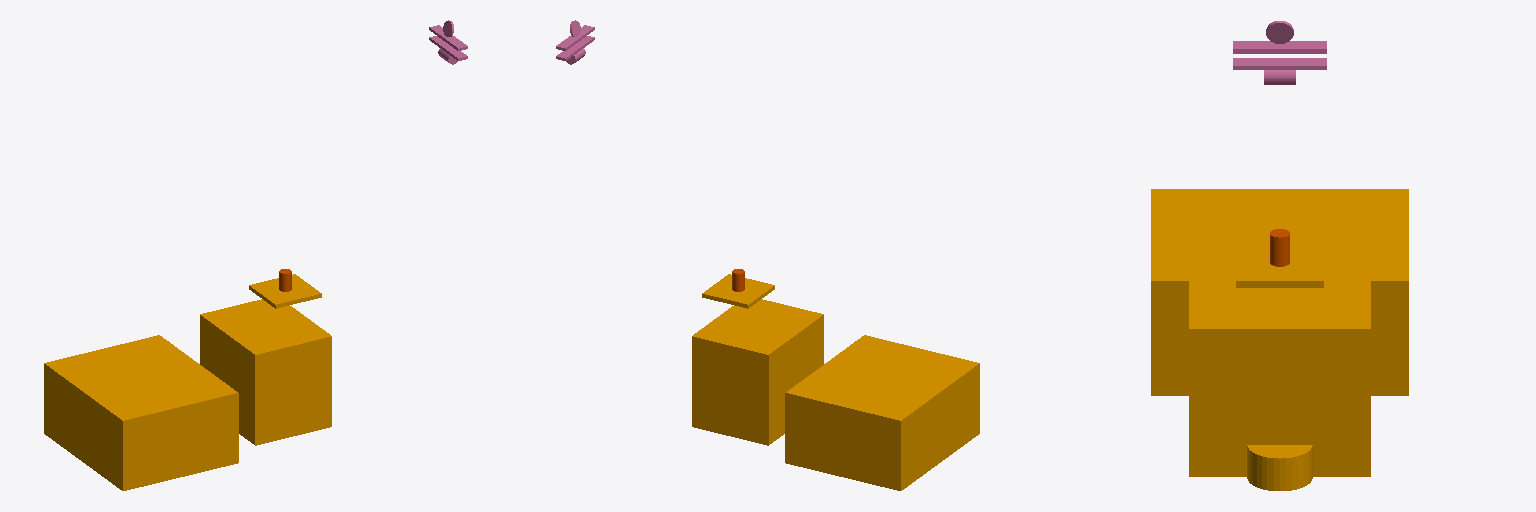
The robot description file, URDF, robot "marble_husky_sensor_config_3":
<?xml version='1.0' encoding='utf-8'?>
<robot name='marble_husky_sensor_config_3'>
  <link name='base_link'>
    <inertial>
      <origin xyz='-0.000543 -0.084945 0.062329' rpy='0 -0 0'/>
      <mass value='46.064'/>
      <inertia ixx='0.615397' ixy='-0.0240585' ixz='-0.120749' iyy='1.75388' iyz='-0.0028322' izz='2.03641'/>
    </inertial>
    <collision name='base_link_collision'>
      <origin xyz='0 0 0.12' rpy='0 -0 0'/>
      <geometry>
        <box size='0.9874 0.5709 0.05'/>
      </geometry>
    </collision>
    <collision name='base_link_collision_bottom'>
      <origin xyz='0 0 0.046' rpy='0 -0 0'/>
      <geometry>
        <box size='0.8 0.5709 0.095'/>
      </geometry>
    </collision>
    <collision name='base_link_collision_1'>
      <origin xyz='0 0 0.185625' rpy='0 -0 0'/>
      <geometry>
        <box size='0.78992 0.5709 0.12375'/>
      </geometry>
    </collision>
    <collision name='base_link_fixed_joint_lump__camera/camera_link_collision_1'>
      <origin xyz='0 0 0.05' rpy='0 -0 0'/>
      <geometry>
        <box size='0.0078 0.13 0.0192'/>
      </geometry>
    </collision>
    <collision name='base_link_fixed_joint_lump__camera/camera_link_collision_2'>
      <origin xyz='0.478 0 0.285' rpy='0 -0 0'/>
      <geometry>
        <box size='0.0078 0.13 0.0192'/>
      </geometry>
    </collision>
    <collision name='base_link_fixed_joint_lump__camera/camera_link_collision_3'>
      <origin xyz='0.473 0 0.26' rpy='0 0.5236 0'/>
      <geometry>
        <box size='0.0078 0.13 0.0192'/>
      </geometry>
    </collision>
    <collision name='base_link_fixed_joint_lump__velodyne_base_link_collision_6'>
      <origin xyz='0.424 0 0.327' rpy='0 -0 0'/>
      <geometry>
        <cylinder radius='0.0516' length='0.0717'/>
      </geometry>
    </collision>
    <collision name='base_link_fixed_joint_lump__velodyne_gimbal_plate_base_link_collision_7'>
      <origin xyz='0.424 0 0.4' rpy='0 -0 0'/>
      <geometry>
        <box size='0.1 0.1 0.01'/>
      </geometry>
    </collision>
    <collision name='base_link_fixed_joint_lump__sensor_tower_8'>
      <origin xyz='0.374 0 0.215' rpy='0 -0 0'/>
      <geometry>
        <box size='0.2 0.25 0.225'/>
      </geometry>
    </collision>
    <collision name='base_link_fixed_joint_lump__computer_block_9'>
      <origin xyz='0.05 0 0.185' rpy='0 -0 0'/>
      <geometry>
        <box size='0.3 0.355 0.175'/>
      </geometry>
    </collision>
    <visual name='base_link_visual'>
      <origin xyz='0 0 0' rpy='0 -0 0'/>
      <geometry>
        <mesh filename='meshes/base_link.dae' scale='1 1 1'/>
      </geometry>
    </visual>
    <visual name='base_link_fixed_joint_lump__camera/camera_link_visual_1'>
      <origin xyz='0.478 0 0.26' rpy='0 0.5236 0'/>
      <geometry>
        <mesh filename='meshes/realsense.dae' scale='1 1 1'/>
      </geometry>
    </visual>
    <visual name='base_link_fixed_joint_lump__camera/camera_link_visual_2'>
      <origin xyz='0.478 0 0.285' rpy='0 -0 0'/>
      <geometry>
        <mesh filename='meshes/realsense.dae' scale='1 1 1'/>
      </geometry>
    </visual>
    <visual name='base_link_fixed_joint_lump__front_bumper_link_visual_3'>
      <origin xyz='0.48 0 0.091' rpy='0 -0 0'/>
      <geometry>
        <mesh filename='meshes/bumper.dae' scale='1 1 1'/>
      </geometry>
    </visual>
    <visual name='base_link_fixed_joint_lump__rear_bumper_link_visual_4'>
      <origin xyz='-0.48 0 0.091' rpy='0 -0 3.14159'/>
      <geometry>
        <mesh filename='meshes/bumper.dae' scale='1 1 1'/>
      </geometry>
    </visual>
    <visual name='base_link_fixed_joint_lump__top_chassis_link_visual_5'>
      <origin xyz='0 0 0' rpy='0 -0 0'/>
      <geometry>
        <mesh filename='meshes/top_chassis.dae' scale='1 1 1'/>
      </geometry>
    </visual>
    <visual name='base_link_fixed_joint_lump__velodyne_base_link_visual_10'>
      <origin xyz='0.424 0 0.327' rpy='0 -0 0'/>
      <geometry>
        <mesh filename='meshes/VLP16_base_1.dae' scale='1 1 1'/>
      </geometry>
    </visual>
    <visual name='base_link_fixed_joint_lump__velodyne_base_link_visual_11'>
      <origin xyz='0.424 0 0.327' rpy='0 -0 0'/>
      <geometry>
        <mesh filename='meshes/VLP16_base_2.dae' scale='1 1 1'/>
      </geometry>
    </visual>
    <visual name='base_link_fixed_joint_lump__velodyne_visual_12'>
      <origin xyz='0.424 0 0.327' rpy='0 -0 0'/>
      <geometry>
        <mesh filename='meshes/VLP16_scan.dae' scale='1 1 1'/>
      </geometry>
    </visual>
    <visual name='base_link_fixed_joint_lump__user_rail_link_visual_13'>
      <origin xyz='0.272 0 0.245' rpy='0 -0 0'/>
      <geometry>
        <mesh filename='meshes/user_rail.dae' scale='1 1 1'/>
      </geometry>
    </visual>
    <visual name='base_link_fixed_joint_lump__planar_lidar_link_visual_14'>
      <origin xyz='0.474 0 0.127' rpy='0 -0 0'/>
      <geometry>
        <cylinder radius='0.045' length='0.05'/>
      </geometry>
    </visual>
    <visual name='base_link_fixed_joint_lump__velodyne_gimbal_plate_15'>
      <origin xyz='0.424 0 0.4' rpy='0 -0 0'/>
      <geometry>
        <box size='0.12 0.12 0.01'/>
      </geometry>
    </visual>
    <visual name='base_link_fixed_joint_lump__sensor_tower_16'>
      <origin xyz='0.374 0 0.215' rpy='0 -0 0'/>
      <geometry>
        <box size='0.2 0.25 0.225'/>
      </geometry>
    </visual>
    <visual name='base_link_fixed_joint_lump__computer_block_17'>
      <origin xyz='0.05 0 0.185' rpy='0 -0 0'/>
      <geometry>
        <box size='0.3 0.355 0.175'/>
      </geometry>
    </visual>
  </link>
  <sensor name='camera_front' update_rate='30'>
    <parent link='base_link'/>
    <origin xyz='0.468 0 0.36' rpy='0 -0 0'/>
    <camera>
      <image width='1280' height='720' format='R8G8B8' hfov='1.5184' near='0.01' far='300' />
    </camera>
  </sensor>
  <sensor name='camera_down' update_rate='30'>
    <parent link='base_link'/>
    <origin xyz='0.473 0 0.335' rpy='0 0.5236 0'/>
    <camera>
      <image width='1280' height='720' format='R8G8B8' hfov='1.5184' near='0.01' far='300' />
    </camera>
  </sensor>
  <sensor name='planar_laser' update_rate='10'>
    <parent link='base_link'/>
    <origin xyz='0.474 0 0.127' rpy='0 -0 0'/>
  </sensor>
  <sensor name='front_laser' update_rate='20'>
    <parent link='base_link'/>
    <origin xyz='0.424 0 0.402' rpy='0 -0 0'/>
  </sensor>
  <sensor name='imu_sensor' update_rate='50'>
    <parent link='base_link'/>
    <origin xyz='0 0 0' rpy='0 -0 0'/>
  </sensor>
  <link name='front_left_wheel_link'>
    <inertial>
      <origin xyz='0 0 0' rpy='0 -0 0'/>
      <mass value='2.637'/>
      <inertia ixx='0.02467' ixy='0' ixz='0' iyy='0.04411' iyz='0' izz='0.02467'/>
    </inertial>
    <collision name='front_left_wheel_link_collision'>
      <origin xyz='0 0 0' rpy='1.5708 -0 0'/>
      <geometry>
        <cylinder radius='0.1651' length='0.1143'/>
      </geometry>
    </collision>
    <visual name='front_left_wheel_link_visual'>
      <origin xyz='0 0 0' rpy='0 -0 0'/>
      <geometry>
        <mesh filename='meshes/wheel.dae' scale='1 1 1'/>
      </geometry>
    </visual>
  </link>
  <link name='front_right_wheel_link'>
    <inertial>
      <origin xyz='0 0 0' rpy='0 -0 0'/>
      <mass value='2.637'/>
      <inertia ixx='0.02467' ixy='0' ixz='0' iyy='0.04411' iyz='0' izz='0.02467'/>
    </inertial>
    <collision name='front_right_wheel_link_collision'>
      <origin xyz='0 0 0' rpy='1.5708 -0 0'/>
      <geometry>
        <cylinder radius='0.1651' length='0.1143'/>
      </geometry>
    </collision>
    <visual name='front_right_wheel_link_visual'>
      <origin xyz='0 0 0' rpy='0 -0 0'/>
      <geometry>
        <mesh filename='meshes/wheel.dae' scale='1 1 1'/>
      </geometry>
    </visual>
  </link>
  <link name='rear_left_wheel_link'>
    <inertial>
      <origin xyz='0 0 0' rpy='0 -0 0'/>
      <mass value='2.637'/>
      <inertia ixx='0.02467' ixy='0' ixz='0' iyy='0.04411' iyz='0' izz='0.02467'/>
    </inertial>
    <collision name='rear_left_wheel_link_collision'>
      <origin xyz='0 0 0' rpy='1.5708 -0 0'/>
      <geometry>
        <cylinder radius='0.1651' length='0.1143'/>
      </geometry>
    </collision>
    <visual name='rear_left_wheel_link_visual'>
      <origin xyz='0 0 0' rpy='0 -0 0'/>
      <geometry>
        <mesh filename='meshes/wheel.dae' scale='1 1 1'/>
      </geometry>
    </visual>
  </link>
  <link name='rear_right_wheel_link'>
    <inertial>
      <origin xyz='0 0 0' rpy='0 -0 0'/>
      <mass value='2.637'/>
      <inertia ixx='0.02467' ixy='0' ixz='0' iyy='0.04411' iyz='0' izz='0.02467'/>
    </inertial>
    <collision name='rear_right_wheel_link_collision'>
      <origin xyz='0 0 0' rpy='1.5708 -0 0'/>
      <geometry>
        <cylinder radius='0.1651' length='0.1143'/>
      </geometry>
    </collision>
    <visual name='rear_right_wheel_link_visual'>
      <origin xyz='0 0 0' rpy='0 -0 0'/>
      <geometry>
        <mesh filename='meshes/wheel.dae' scale='1 1 1'/>
      </geometry>
    </visual>
  </link>
  <link name='pan_gimbal_link'>
    <inertial>
      <origin xyz='0 0 0' rpy='0 -0 0'/>
      <mass value='0.1'/>
      <inertia ixx='1' ixy='0' ixz='0' iyy='1' iyz='0' izz='1'/>
    </inertial>
    <collision name='pan_gimbal_link_collision'>
      <origin xyz='0 0 0' rpy='0 -0 0'/>
      <geometry>
        <cylinder radius='0.014' length='0.045'/>
      </geometry>
    </collision>
    <visual name='pan_gimbal_link_visual'>
      <origin xyz='0 0 0' rpy='0 -0 0'/>
      <geometry>
        <cylinder radius='0.014' length='0.045'/>
      </geometry>
    </visual>
  </link>
  <link name='tilt_gimbal_link'>
    <inertial>
      <origin xyz='0 0 0' rpy='1.5708 -0 0'/>
      <mass value='0.1'/>
      <inertia ixx='1' ixy='0' ixz='0' iyy='1' iyz='0' izz='1'/>
    </inertial>
    <collision name='tilt_gimbal_link_collision'>
      <origin xyz='0 0 0' rpy='1.5708 -0 0'/>
      <geometry>
        <cylinder radius='0.014' length='0.045'/>
      </geometry>
    </collision>
    <visual name='tilt_gimbal_link_visual'>
      <origin xyz='0 0 0' rpy='1.5708 -0 0'/>
      <geometry>
        <cylinder radius='0.014' length='0.045'/>
      </geometry>
    </visual>
    <visual name='tilt_gimbal_link_fixed_joint_lump__camera/camera_link_visual_0'>
      <origin xyz='0 0 0.03' rpy='0 -0 0'/>
      <geometry>
        <mesh filename='meshes/realsense.dae' scale='1 1 1'/>
      </geometry>
    </visual>
    <visual name='tilt_gimbal_link_fixed_joint_lump_bot_camera_plate_link_visual_1'>
      <origin xyz='0 0 0.017' rpy='0 -0 0'/>
      <geometry>
        <box size='0.025 0.13 0.007'/>
      </geometry>
    </visual>
    <visual name='tilt_gimbal_link_fixed_joint_lump_bot_camera_plate_link_visual_2'>
      <origin xyz='0 0 0.042' rpy='0 -0 0'/>
      <geometry>
        <box size='0.025 0.13 0.007'/>
      </geometry>
    </visual>
    <visual name='flashlight_flashlight_light_source_lamp_viz_visual'>
      <origin xyz='0 0 0.065' rpy='-0 1.3208 3.14'/>
      <geometry>
        <cylinder radius='0.019' length='0.005'/>
      </geometry>
    </visual>
  </link>
  <sensor name='camera_pan_tilt' update_rate='30'>
    <parent link='tilt_gimbal_link'/>
    <origin xyz='0 0 0.03' rpy='0 -0 0'/>
    <camera>
      <image width='1280' height='720' format='R8G8B8' hfov='1.5184' near='0.01' far='300' />
    </camera>
  </sensor>
  <joint name='front_left_wheel_joint' type='revolute'>
    <origin xyz='0.256 0.2854 0.03282' rpy='0 -0 0'/>
    <parent link='base_link'/>
    <child link='front_left_wheel_link'/>
    <dynamics damping='0' friction='0' />
    <axis xyz='0 1 0'/>
    <limit lower='-1e+16' upper='1e+16' effort='-1' velocity='-1'/>
  </joint>
  <joint name='front_right_wheel_joint' type='revolute'>
    <origin xyz='0.256 -0.2854 0.03282' rpy='0 -0 0'/>
    <parent link='base_link'/>
    <child link='front_right_wheel_link'/>
    <dynamics damping='0' friction='0' />
    <axis xyz='0 1 0'/>
    <limit lower='-1e+16' upper='1e+16' effort='-1' velocity='-1'/>
  </joint>
  <joint name='rear_left_wheel_joint' type='revolute'>
    <origin xyz='-0.256 0.2854 0.03282' rpy='0 -0 0'/>
    <parent link='base_link'/>
    <child link='rear_left_wheel_link'/>
    <dynamics damping='0' friction='0' />
    <axis xyz='0 1 0'/>
    <limit lower='-1e+16' upper='1e+16' effort='-1' velocity='-1'/>
  </joint>
  <joint name='rear_right_wheel_joint' type='revolute'>
    <origin xyz='-0.256 -0.2854 0.03282' rpy='0 -0 0'/>
    <parent link='base_link'/>
    <child link='rear_right_wheel_link'/>
    <dynamics damping='0' friction='0' />
    <axis xyz='0 1 0'/>
    <limit lower='-1e+16' upper='1e+16' effort='-1' velocity='-1'/>
  </joint>
  <joint name='pan_gimbal_joint' type='revolute'>
    <origin xyz='0.424 0 0.427' rpy='0 -0 0'/>
    <parent link='base_link'/>
    <child link='pan_gimbal_link'/>
    <dynamics damping='0' friction='0' />
    <axis xyz='0 0 1'/>
    <limit lower='-1e+16' upper='1e+16' effort='-1' velocity='-1'/>
  </joint>
  <joint name='tilt_gimbal_joint' type='revolute'>
    <origin xyz='0.424 0 0.46' rpy='0 -0 0'/>
    <parent link='pan_gimbal_link'/>
    <child link='tilt_gimbal_link'/>
    <dynamics damping='0' friction='0' />
    <axis xyz='0 1 0'/>
    <limit lower='-2.79253' upper='2.79253' effort='-1' velocity='-1'/>
  </joint>
</robot>

--- What the picture shows (computed from the rendered views, not written in the file) ---
3 views of the same robot in one strip: view 1: azimuth 30°, elevation 25°; view 2: azimuth 150°, elevation 25°; view 3: azimuth 270°, elevation 25° (orthographic).
Model marble_husky_sensor_config_3 with 7 links and 6 joints (6 revolute), rooted at base_link, posed every joint at zero.
Visible links, largest first — view 1: base_link, tilt_gimbal_link; view 2: base_link, tilt_gimbal_link; view 3: base_link, tilt_gimbal_link, pan_gimbal_link.
Link boxes in pixels (x1=…): base_link: x1=44, y1=274, x2=331, y2=490; tilt_gimbal_link: x1=429, y1=20, x2=467, y2=64; base_link: x1=692, y1=274, x2=979, y2=490; tilt_gimbal_link: x1=556, y1=20, x2=594, y2=64; base_link: x1=1151, y1=189, x2=1408, y2=490; tilt_gimbal_link: x1=1233, y1=21, x2=1326, y2=84; pan_gimbal_link: x1=1270, y1=229, x2=1289, y2=266.
Size in the robot's own frame: 0.962 by 0.355 by 0.8735 metres.
0 mesh visuals loaded from 9 distinct referenced files (none loaded); not drawn: 15 (reference not matched to a file when rendering).